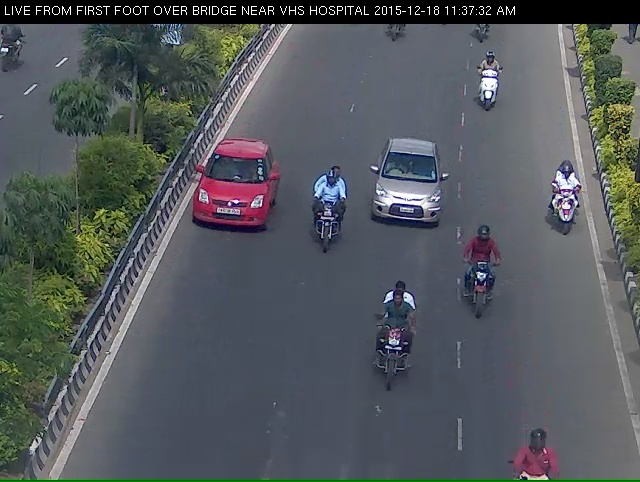Car: (191, 149, 284, 254), (361, 149, 457, 249)
Person: (357, 309, 429, 420), (452, 246, 517, 343), (298, 170, 354, 275), (473, 64, 520, 153), (544, 165, 590, 254)
